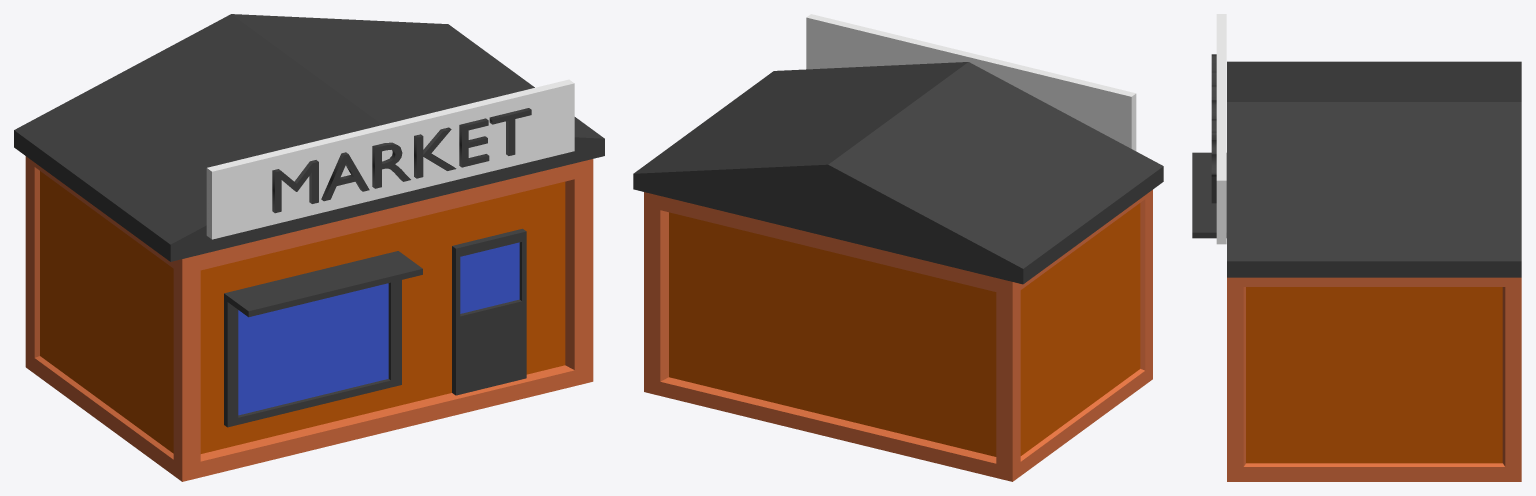
The model's file is Market.fbx.
The picture shows the model from 3 angles, left to right: view 1: azimuth 30°, elevation 25°; view 2: azimuth 150°, elevation 25°; view 3: azimuth 270°, elevation 25°; orthographic projection. The views are drawn at different scales.
Visible parts, largest first — view 1: Market, Text.001; view 2: Market; view 3: Market, Text.001.
Part boxes in pixels (x1=…): Market: x1=14, y1=14, x2=604, y2=481; Text.001: x1=272, y1=108, x2=531, y2=213; Market: x1=633, y1=14, x2=1163, y2=481; Market: x1=1192, y1=14, x2=1521, y2=481; Text.001: x1=1211, y1=54, x2=1216, y2=203.
Bounding box in the file's own units: 3887 × 2637 × 2713.
